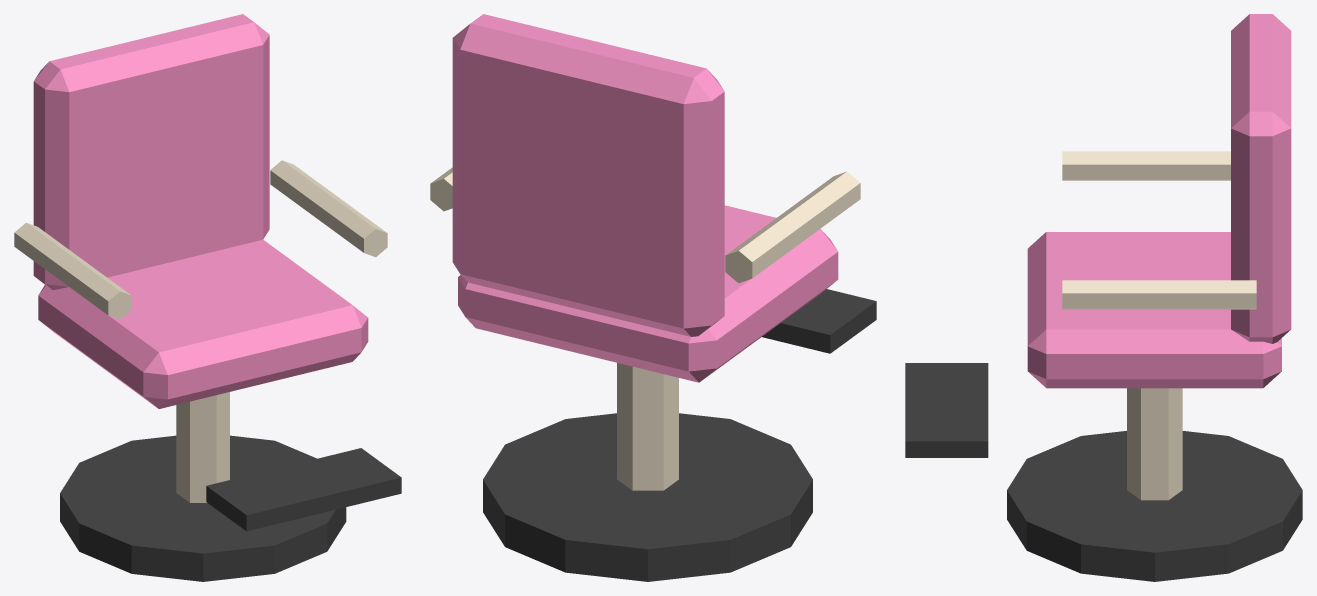
3 renders of one model, left to right at view 1: azimuth 30°, elevation 25°; view 2: azimuth 150°, elevation 25°; view 3: azimuth 270°, elevation 25°, orthographic. The views are drawn at different scales.
Visible parts, largest first — view 1: Back, Seat, Base, Footrest, Hydraulic post, Arm.001, Arm; view 2: Back, Base, Seat, Hydraulic post, Arm, Footrest, Arm.001; view 3: Base, Seat, Back, Footrest, Hydraulic post, Arm.001, Arm.
Boxes of the visible parts, bbox=[...] form: Back: bbox=[33, 14, 269, 290]; Seat: bbox=[38, 239, 368, 408]; Base: bbox=[60, 435, 346, 581]; Footrest: bbox=[206, 448, 401, 531]; Hydraulic post: bbox=[176, 392, 229, 502]; Arm.001: bbox=[270, 160, 387, 257]; Arm: bbox=[14, 222, 131, 319]; Back: bbox=[452, 14, 724, 336]; Base: bbox=[483, 413, 812, 581]; Seat: bbox=[458, 205, 838, 382]; Hydraulic post: bbox=[617, 363, 678, 490]; Arm: bbox=[725, 171, 860, 283]; Footrest: bbox=[762, 289, 876, 353]; Arm.001: bbox=[430, 167, 452, 211]; Base: bbox=[1007, 431, 1302, 581]; Seat: bbox=[1027, 232, 1281, 388]; Back: bbox=[1231, 14, 1291, 343]; Footrest: bbox=[905, 363, 988, 457]; Hydraulic post: bbox=[1127, 388, 1182, 500]; Arm.001: bbox=[1062, 280, 1256, 309]; Arm: bbox=[1062, 151, 1230, 180].
Size of the model in its own units: 72.06 by 109 by 86.
